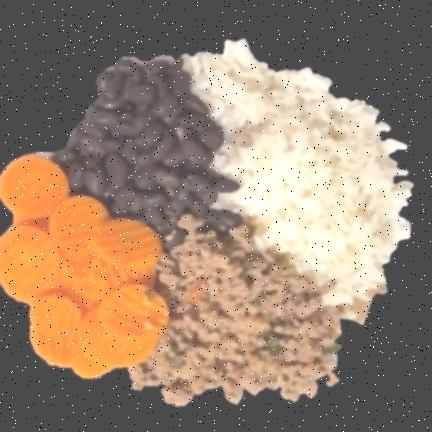beans: (56, 58, 240, 238)
carrot: (0, 154, 169, 377)
meat: (130, 214, 342, 404)
rice: (184, 39, 412, 318)
